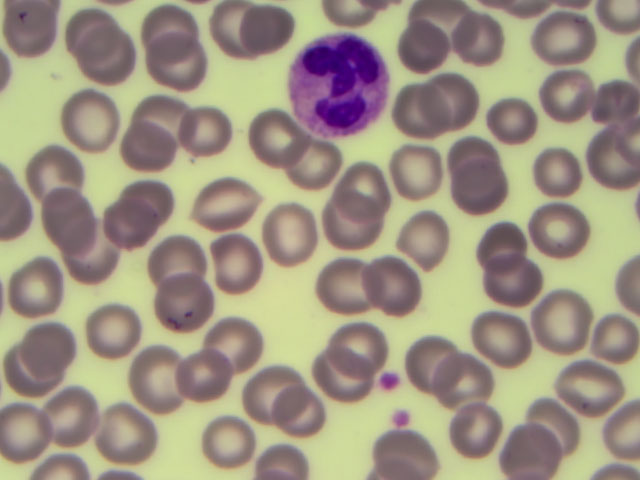Platelets: (389, 405, 416, 428), (377, 372, 400, 391)
RBC: (245, 361, 298, 421), (368, 423, 422, 480), (501, 423, 555, 480), (586, 129, 640, 186), (9, 2, 63, 58), (78, 36, 132, 92), (66, 12, 120, 68), (67, 89, 121, 145), (31, 141, 85, 197), (39, 192, 93, 248), (60, 228, 114, 284), (101, 201, 155, 257), (129, 166, 183, 222), (124, 124, 178, 180), (126, 92, 180, 148), (164, 102, 218, 158), (155, 34, 209, 90), (142, 4, 196, 60), (242, 5, 296, 61), (218, 2, 272, 58), (202, 174, 256, 230), (246, 110, 300, 166), (290, 141, 344, 197), (342, 152, 396, 208), (331, 200, 385, 256), (269, 207, 323, 263), (217, 230, 271, 286), (153, 233, 207, 289), (162, 271, 216, 327), (86, 302, 140, 358), (23, 318, 77, 374), (7, 346, 61, 402), (11, 261, 65, 317), (134, 342, 188, 398), (177, 345, 231, 401), (217, 315, 271, 371), (291, 395, 345, 451), (309, 345, 363, 401), (347, 321, 401, 377), (204, 409, 258, 465), (102, 407, 156, 463), (46, 389, 100, 445), (2, 404, 56, 460), (452, 404, 506, 460), (437, 352, 491, 408), (410, 338, 464, 394), (477, 321, 531, 377), (369, 263, 423, 319), (306, 256, 360, 312), (404, 224, 458, 280), (385, 147, 439, 203), (457, 172, 511, 228), (445, 138, 499, 194), (400, 92, 454, 148), (423, 77, 477, 133), (395, 26, 449, 82), (456, 11, 510, 67), (541, 12, 595, 68), (553, 58, 607, 114), (493, 91, 547, 147), (536, 153, 590, 209), (539, 195, 593, 251), (486, 210, 540, 266), (493, 253, 547, 309), (541, 297, 595, 353), (586, 309, 640, 365), (564, 351, 618, 407), (524, 393, 578, 449), (429, 1, 483, 56)
WBC: (288, 28, 391, 144)
